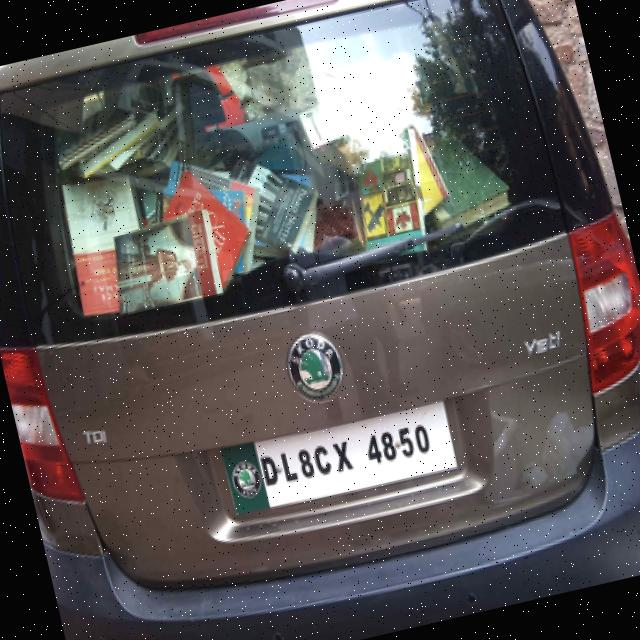Autre: (214, 386, 463, 526)
